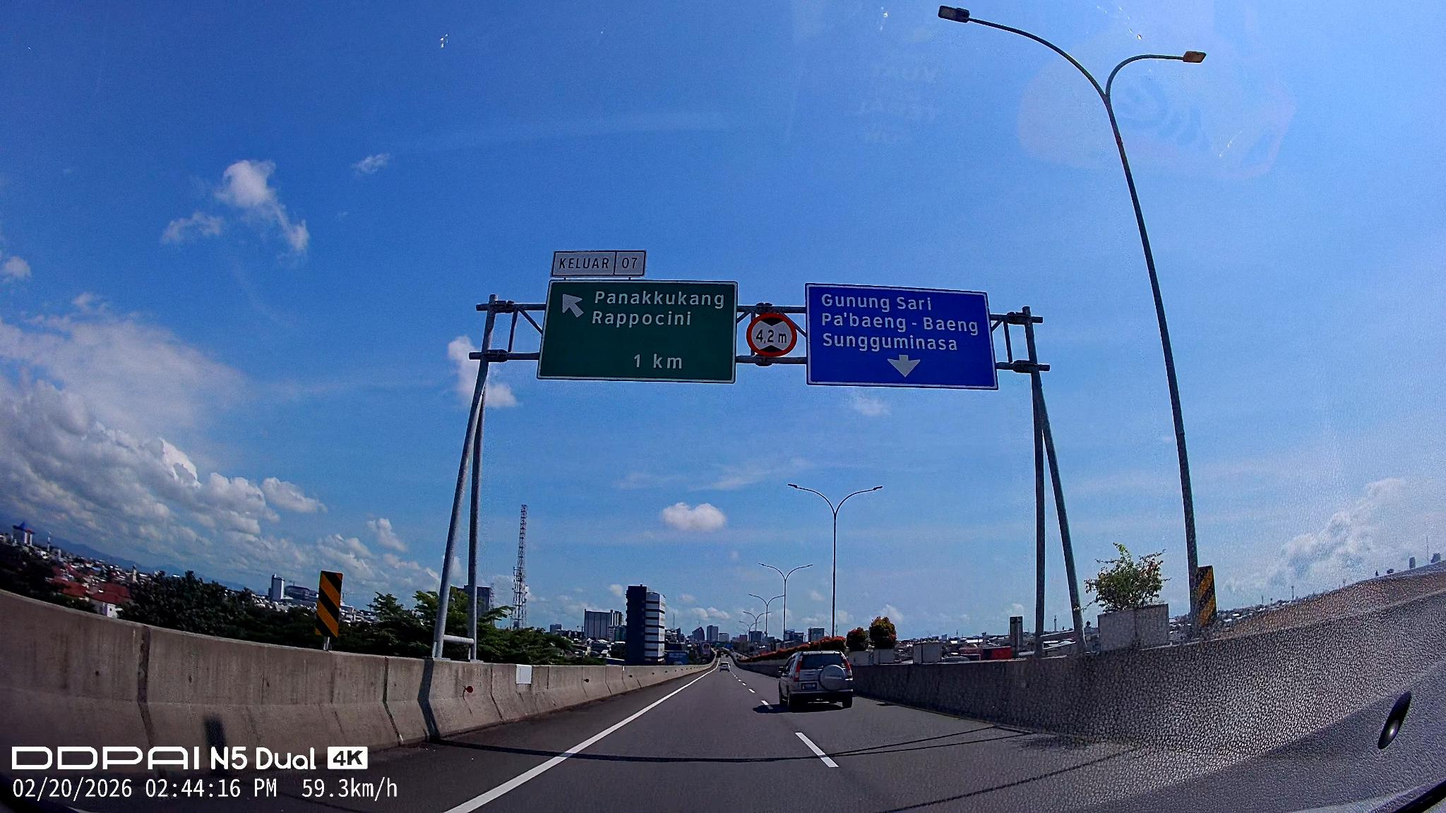rambu_teks: (805, 282, 999, 392), (536, 280, 739, 384)
